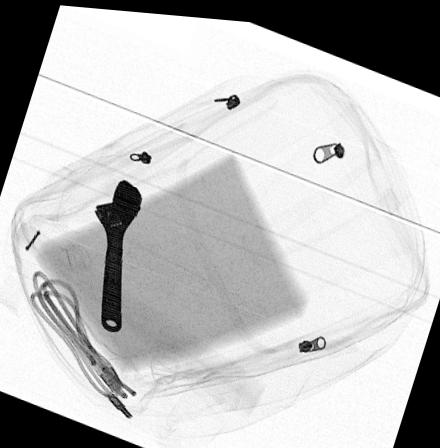Wrench: (92, 173, 141, 331)
